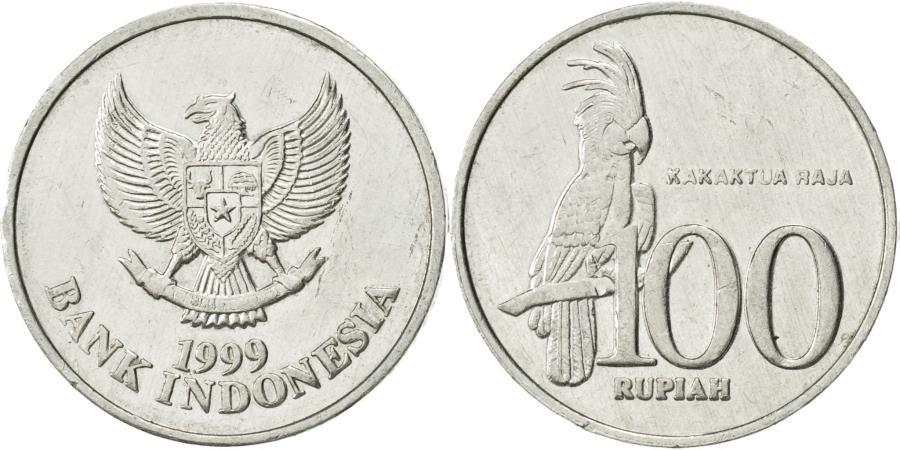coin_100_e1999: (446, 2, 900, 450), (0, 0, 447, 446)
